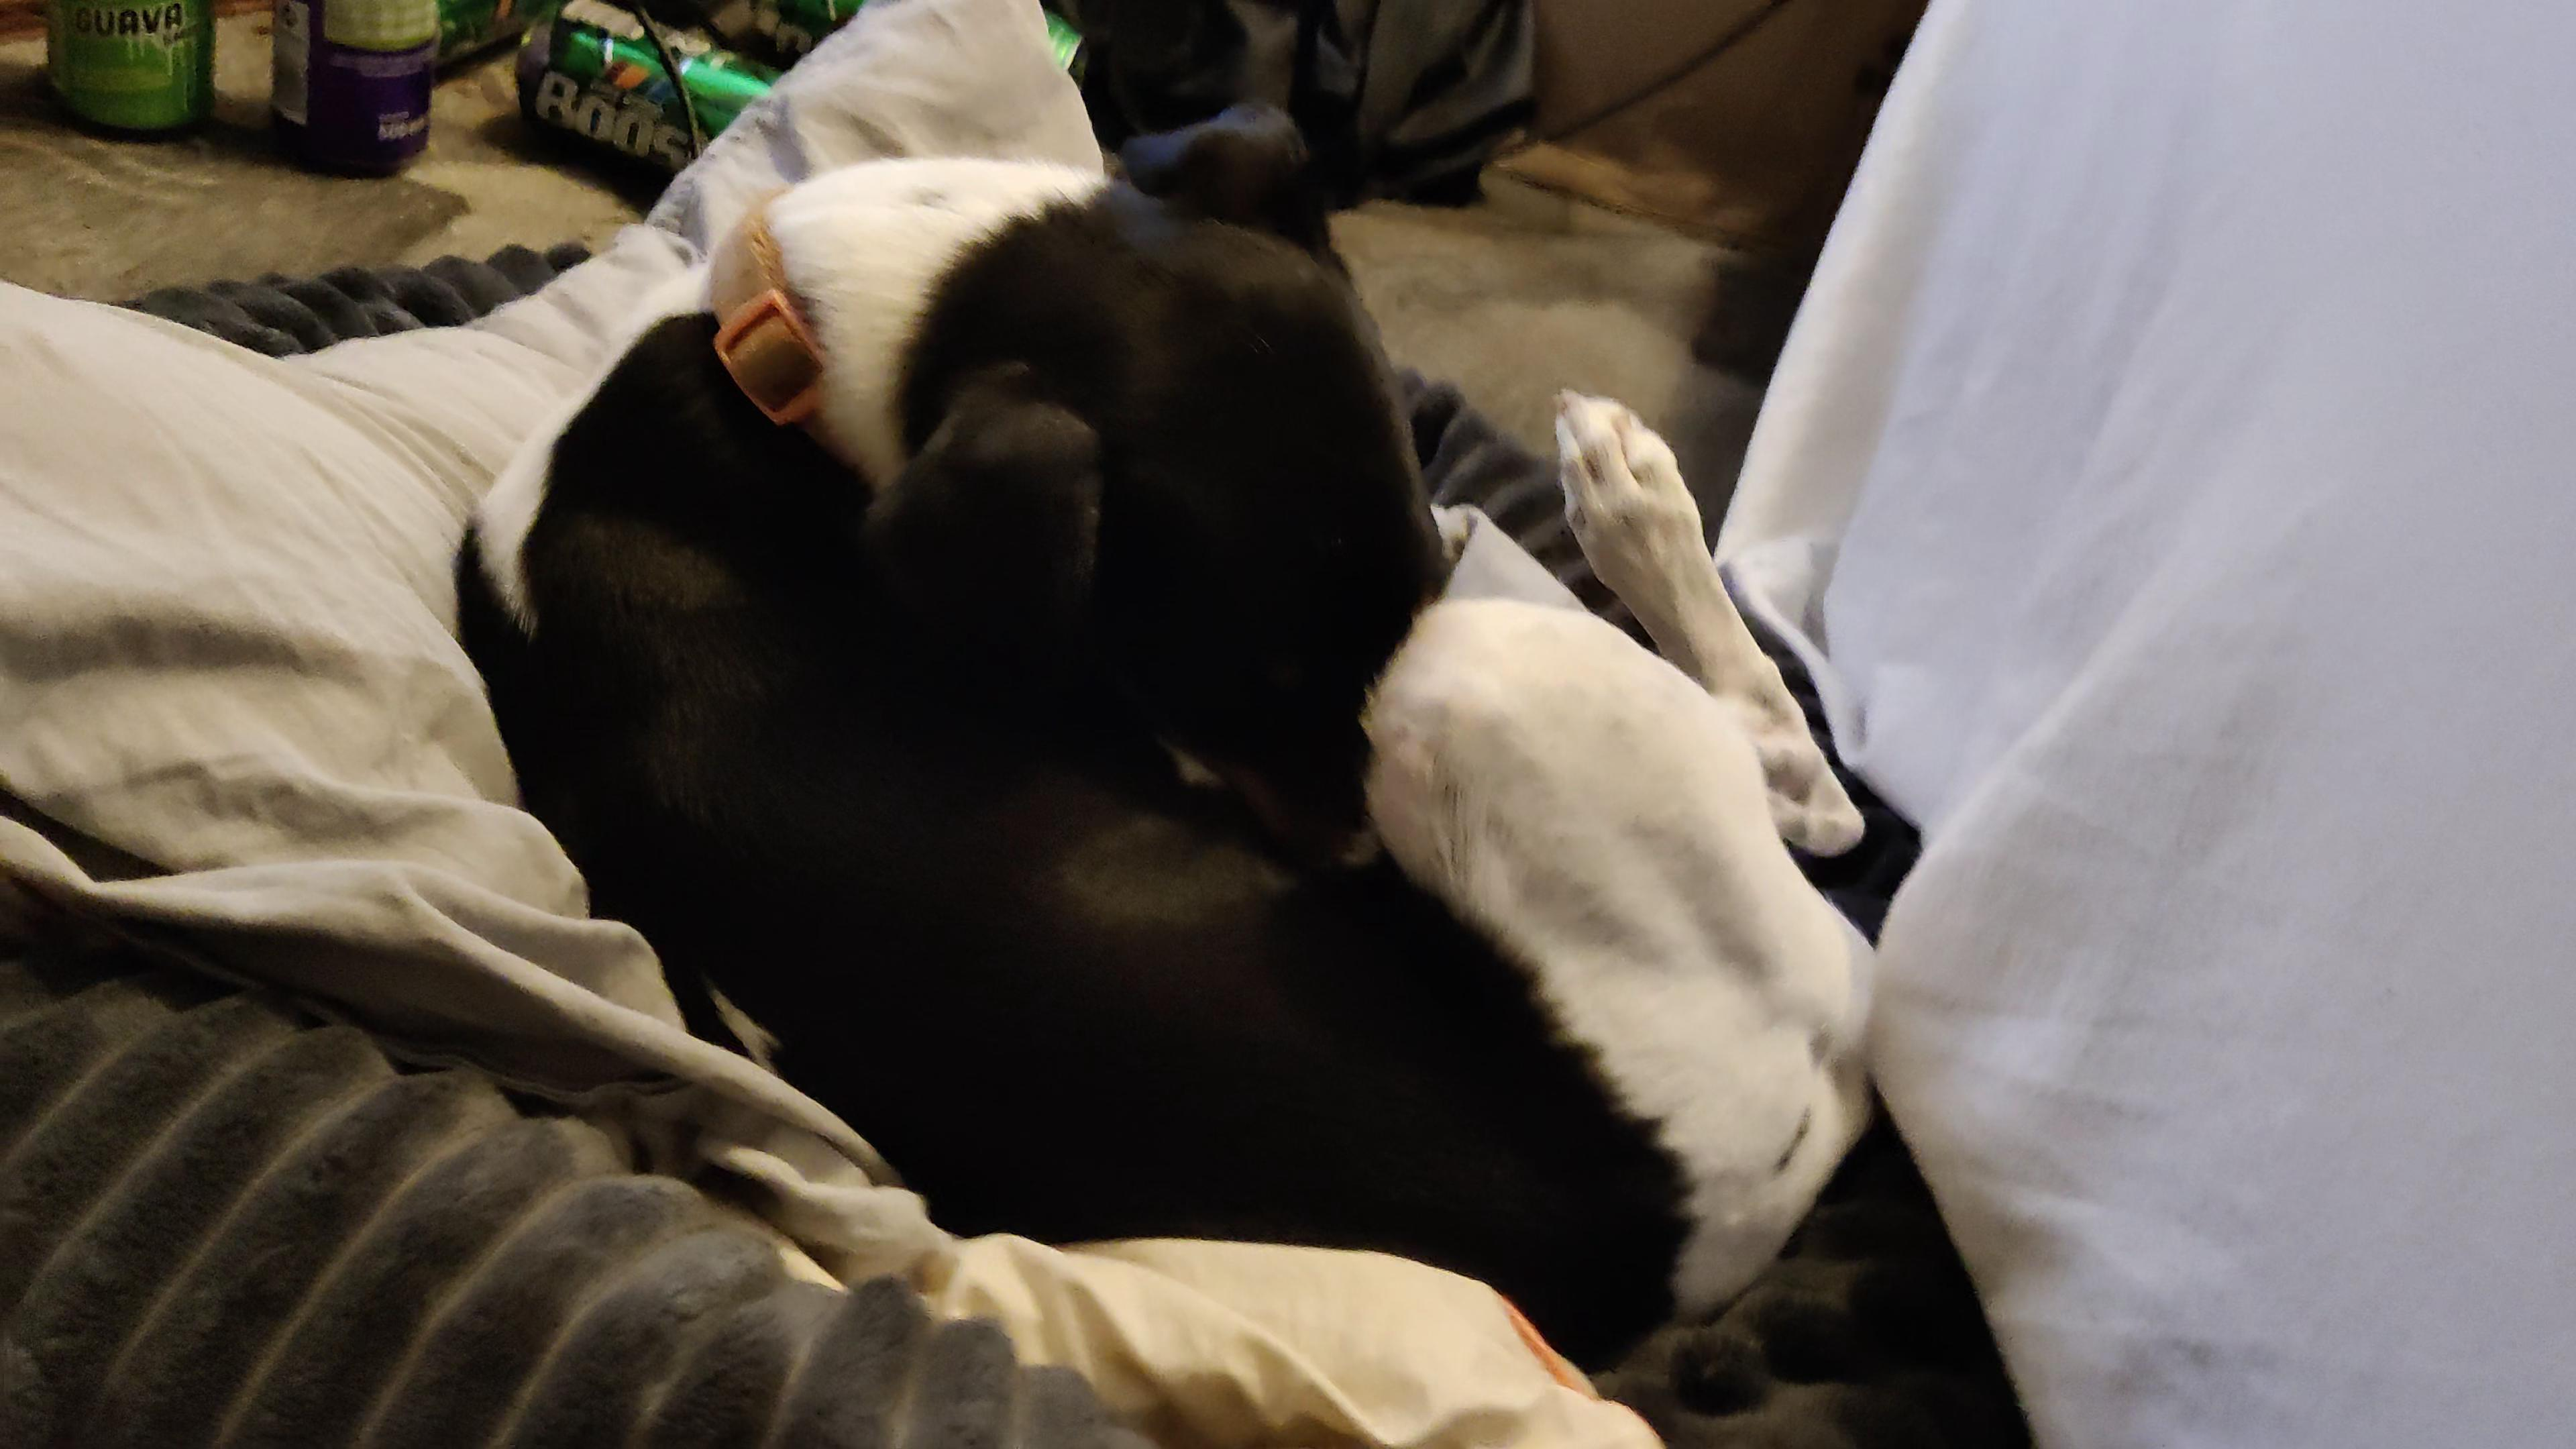Dog: (433, 99, 2005, 1407)
